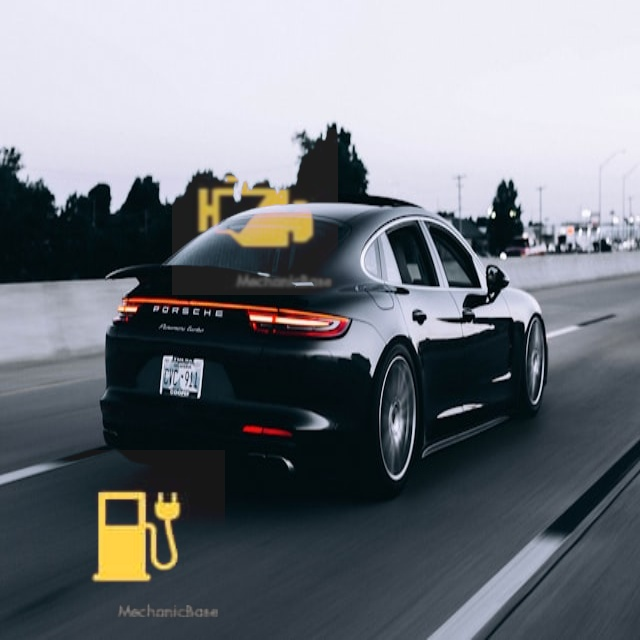symbol: (49, 450, 225, 626), (172, 129, 338, 295)
